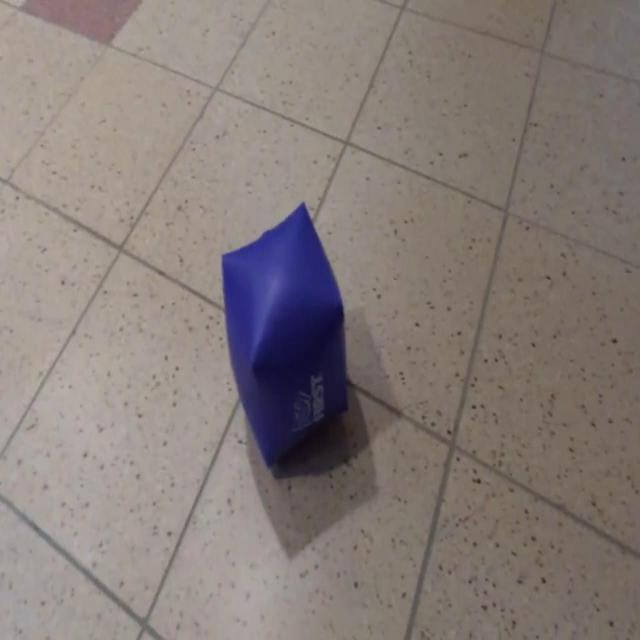frc_cube: (222, 200, 346, 465)
